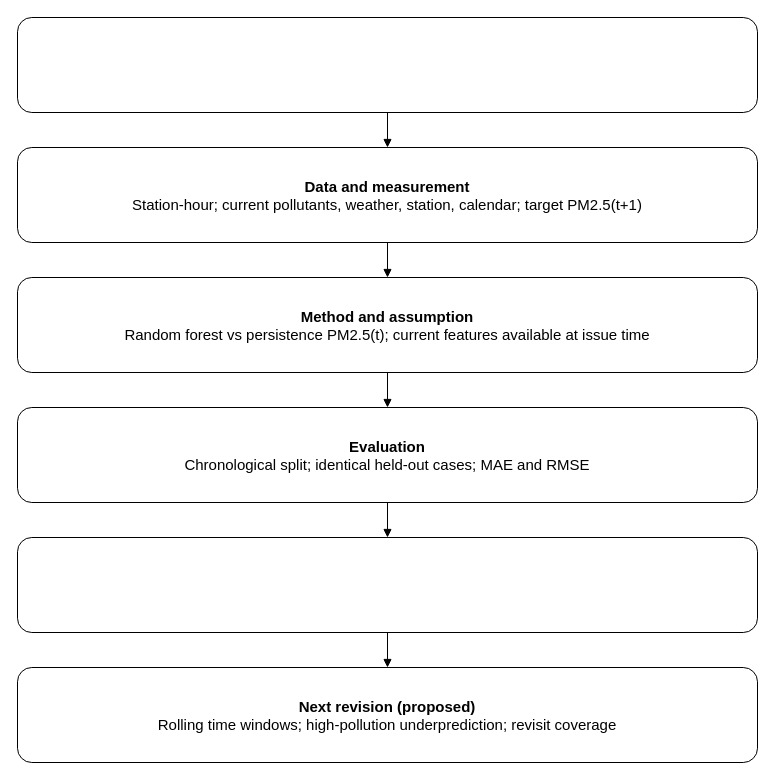
This 775x780 diagram has some shape labels left out. Here are the shapes that lost their labels. From the top down, the box of each, then its label:
(16, 16, 758, 112): Question Does random forest improve one-hour-ahead forecasts across stations?
(16, 536, 758, 632): Evidence MAE 10.097 → 9.809 µg/m³; improvement at all 12 sites
